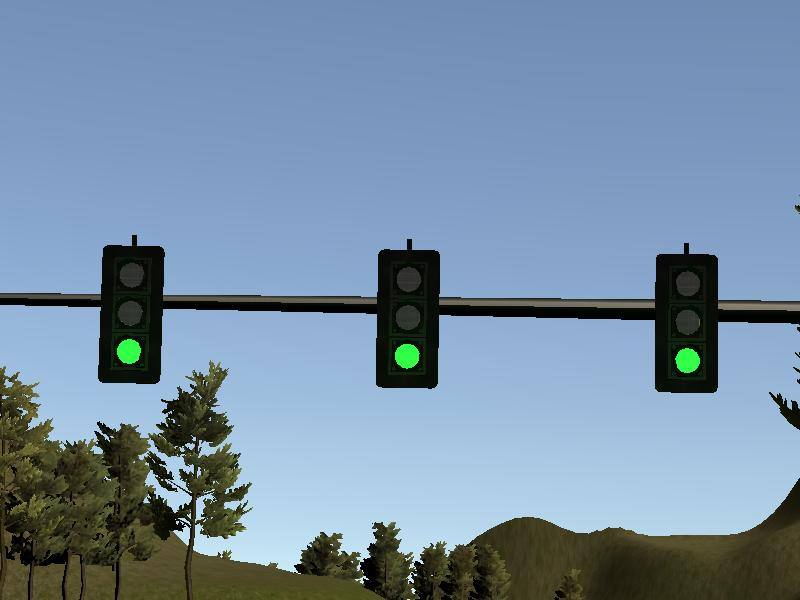green: (99, 245, 163, 386), (376, 249, 440, 390), (655, 254, 719, 395)
